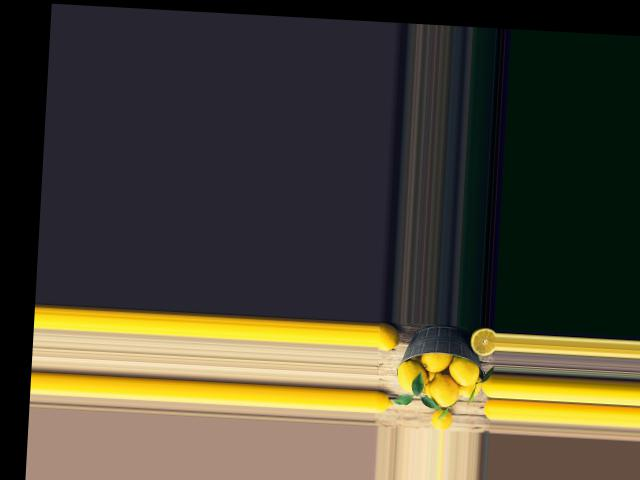lemon: (444, 347, 480, 386)
